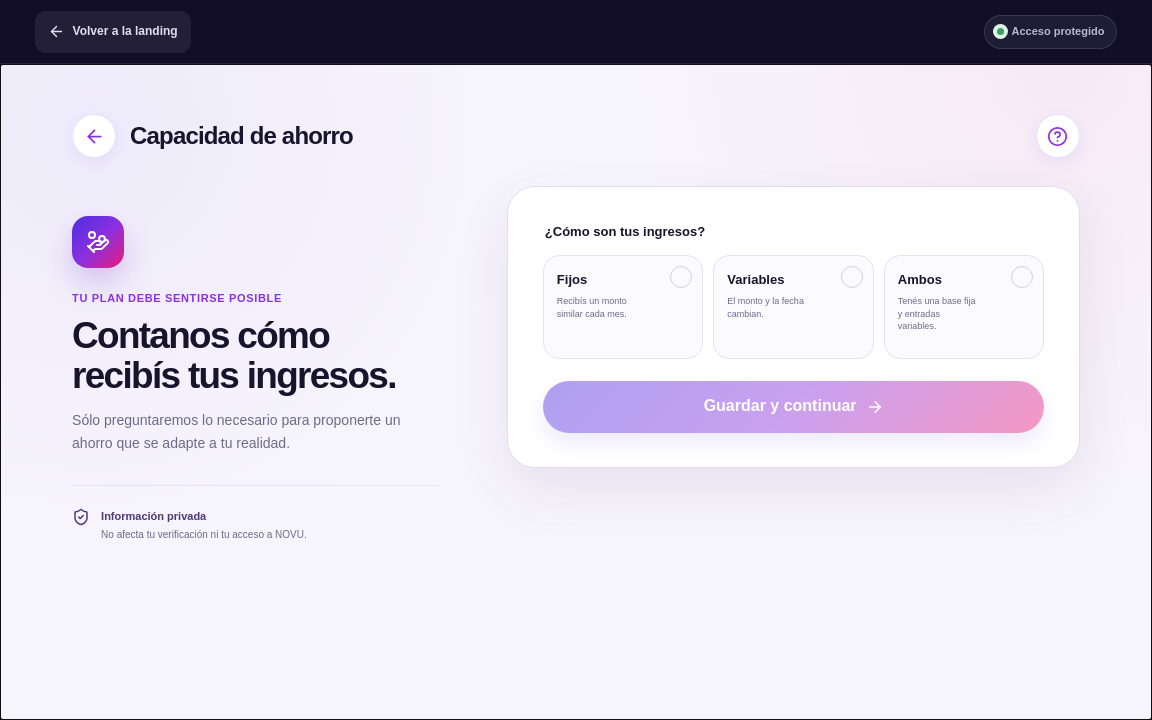
capacidad de ahorro condicional › combina ingreso fijo y frecuencia variable cuando corresponde
Step 1. Click the button "Ambos Tenés una base fija y entradas variables." → (964, 307), box x1=884 y1=255 x2=1044 y2=359
(page scrolled)
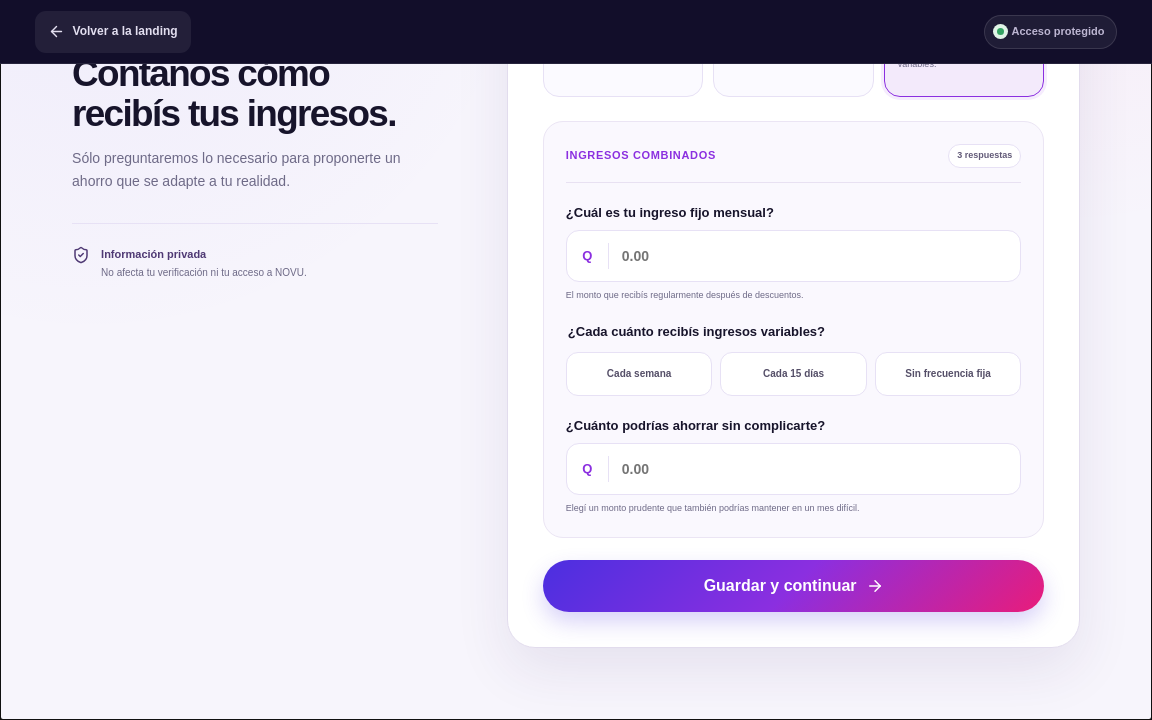
expect the number field labelled "¿Cuál es tu ingreso fijo mensual?" is shown: met, box x1=609 y1=231 x2=1020 y2=281
expect the button "Cada 15 días" is shown: met, box x1=720 y1=352 x2=867 y2=396
expect the number field labelled "¿Cuánto podrías ahorrar sin complicarte?" is shown: met, box x1=609 y1=444 x2=1020 y2=494
